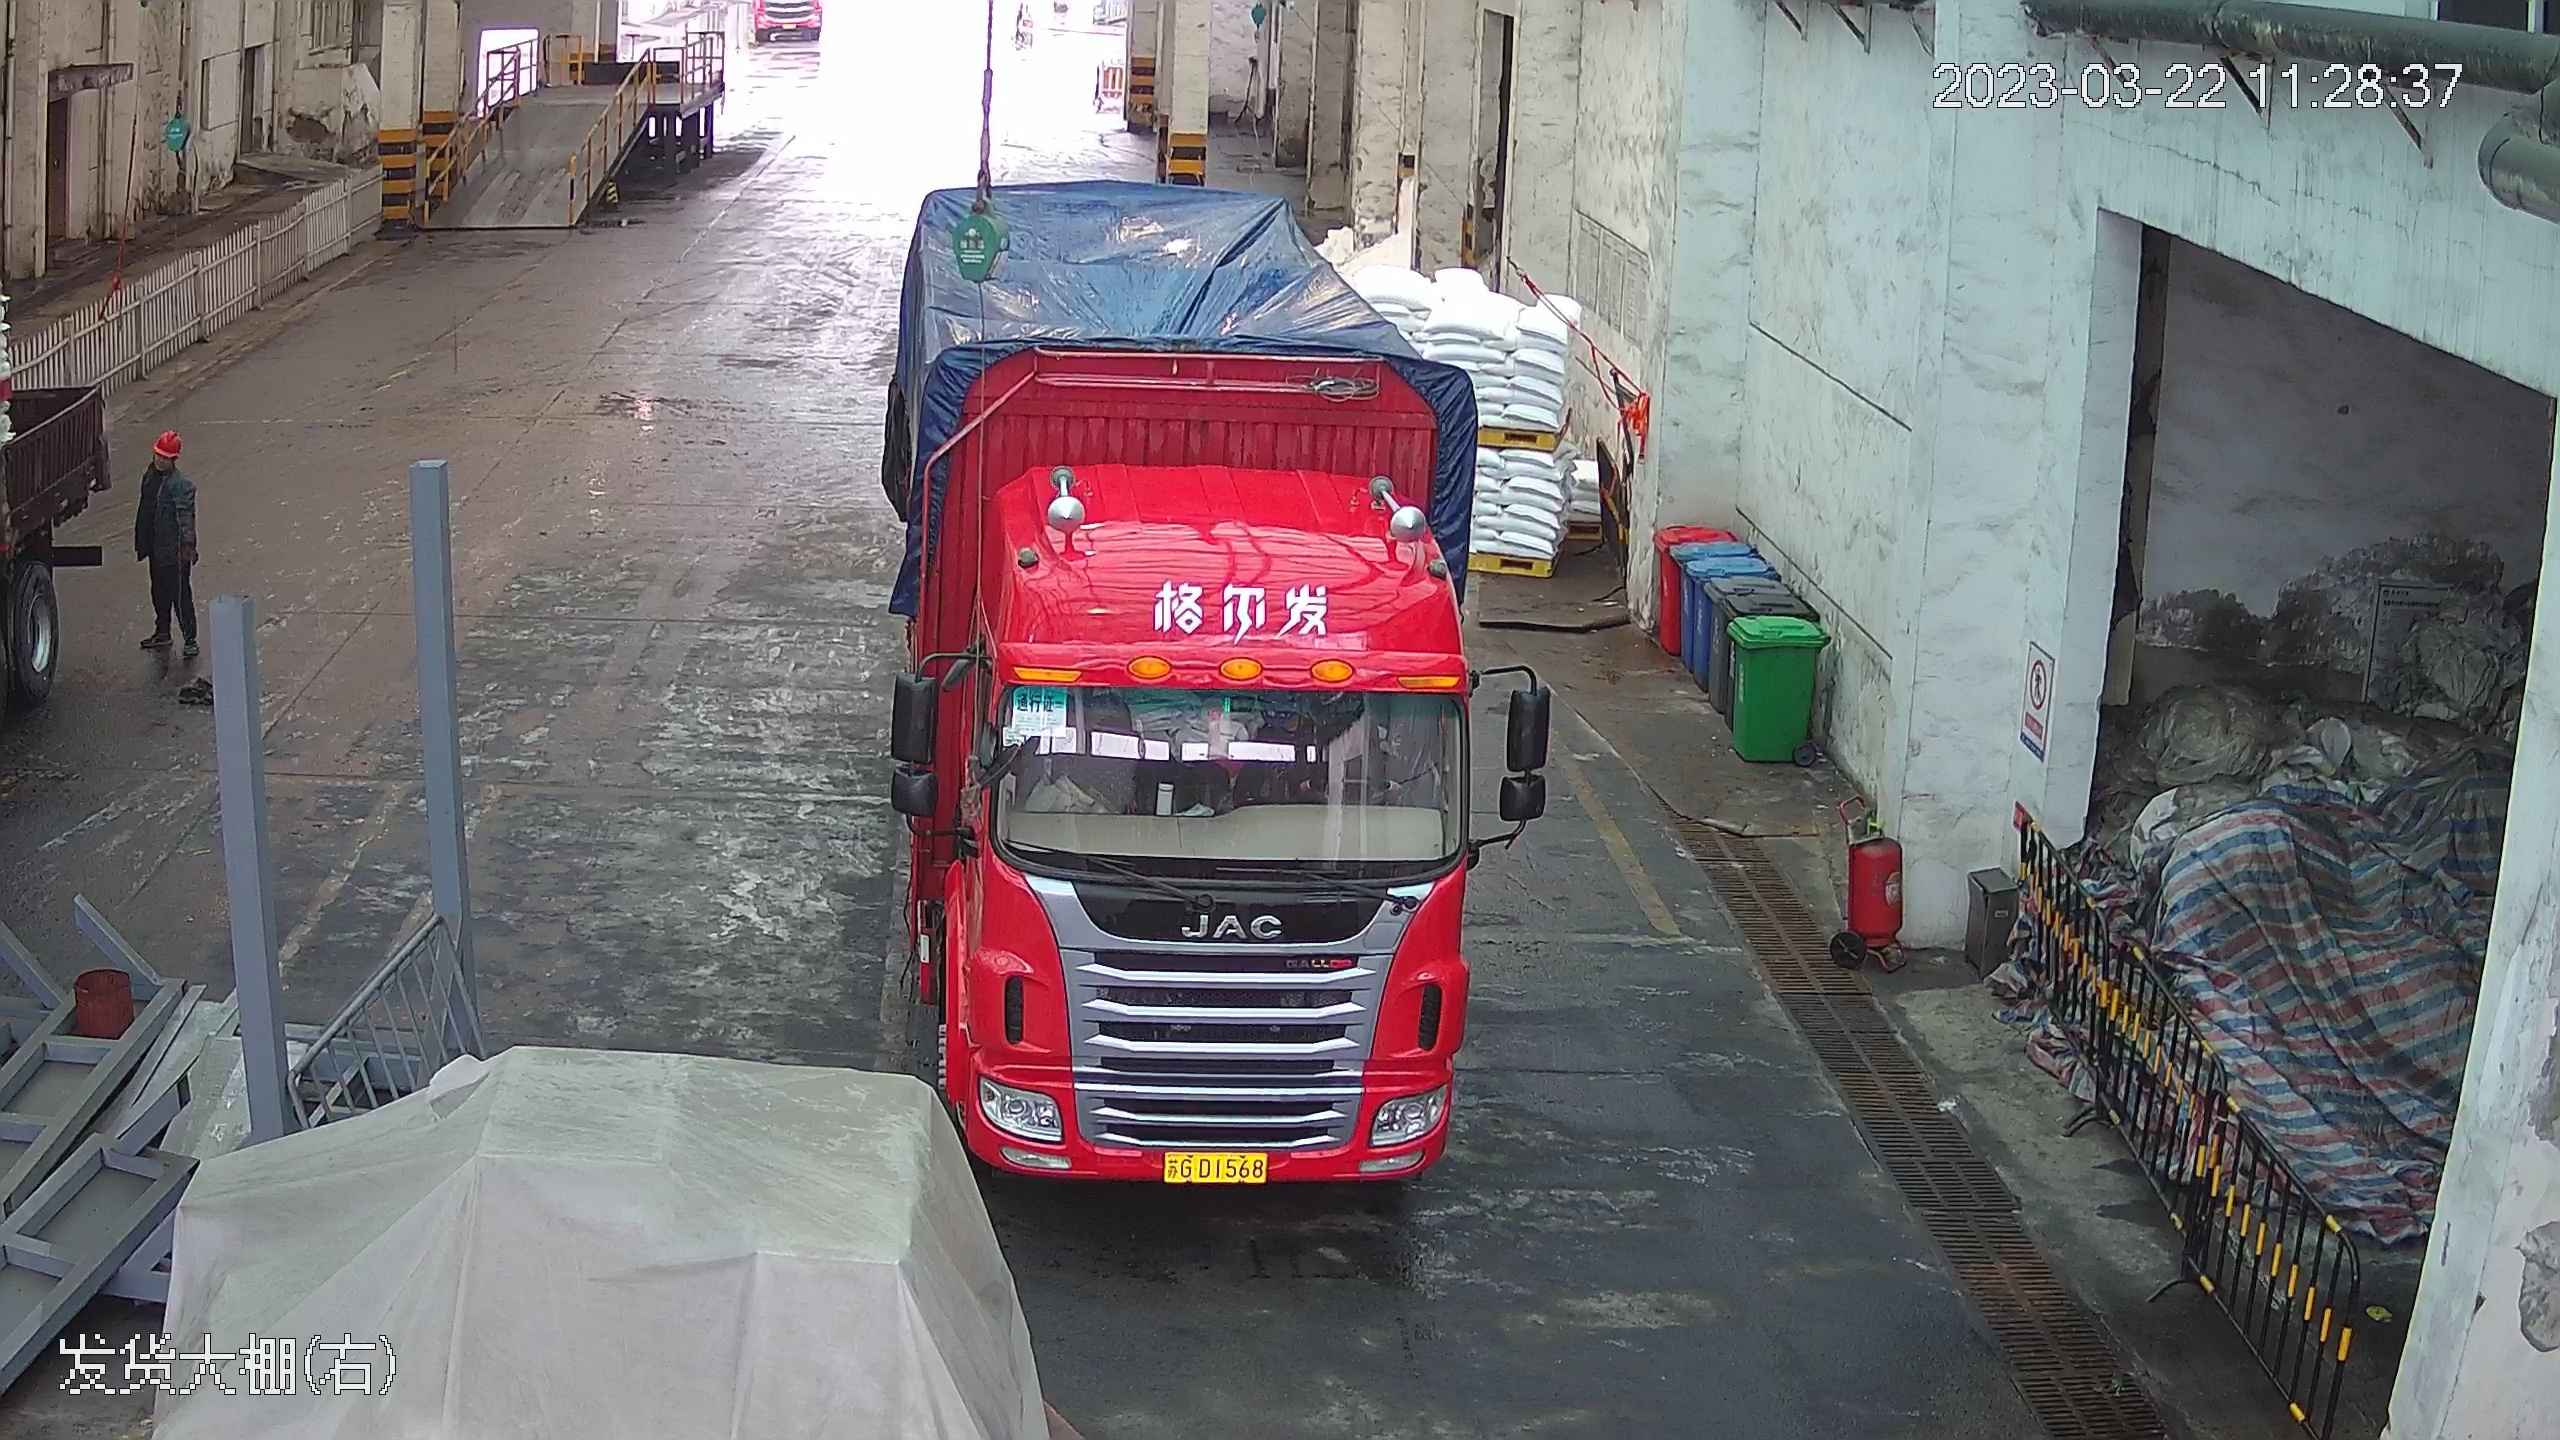head: (137, 427, 195, 504)
helmet: (150, 427, 185, 456)
people: (133, 423, 205, 680)
truck: (857, 157, 1535, 1218)
